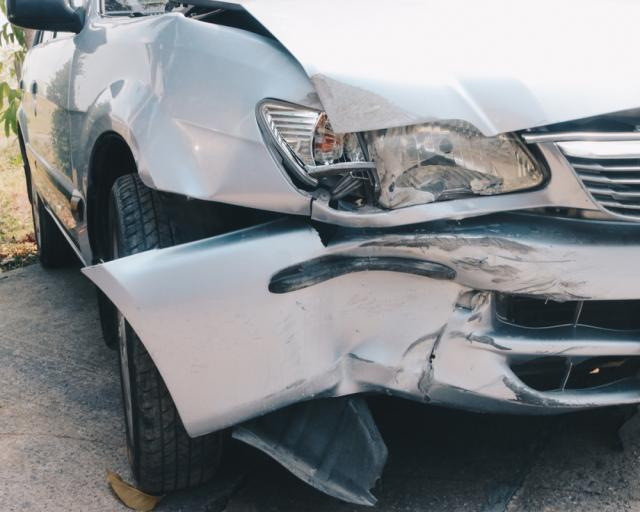crack: (309, 223, 337, 248), (309, 197, 316, 218)
dent: (283, 239, 459, 397), (146, 121, 235, 197), (451, 78, 543, 134)
lamp broken: (258, 101, 544, 209)
scratch: (431, 232, 602, 408), (312, 72, 444, 133)
